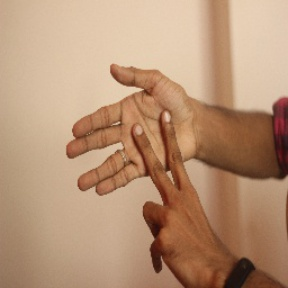N: (66, 59, 207, 252)
